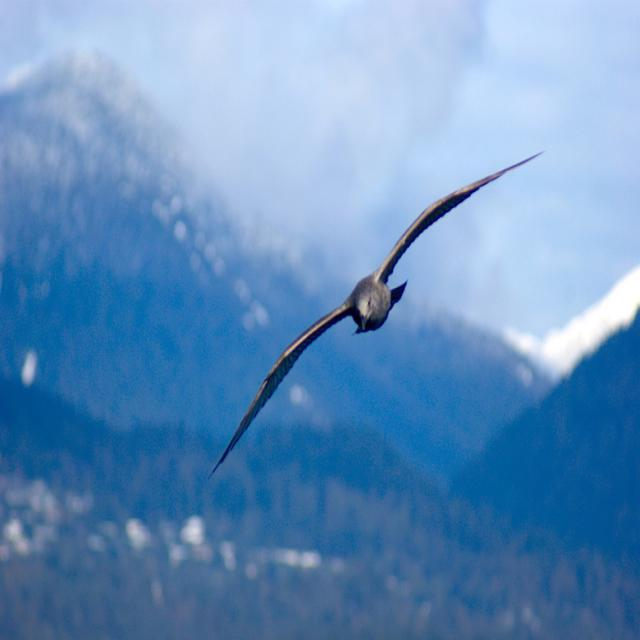birds: (202, 148, 550, 478)
